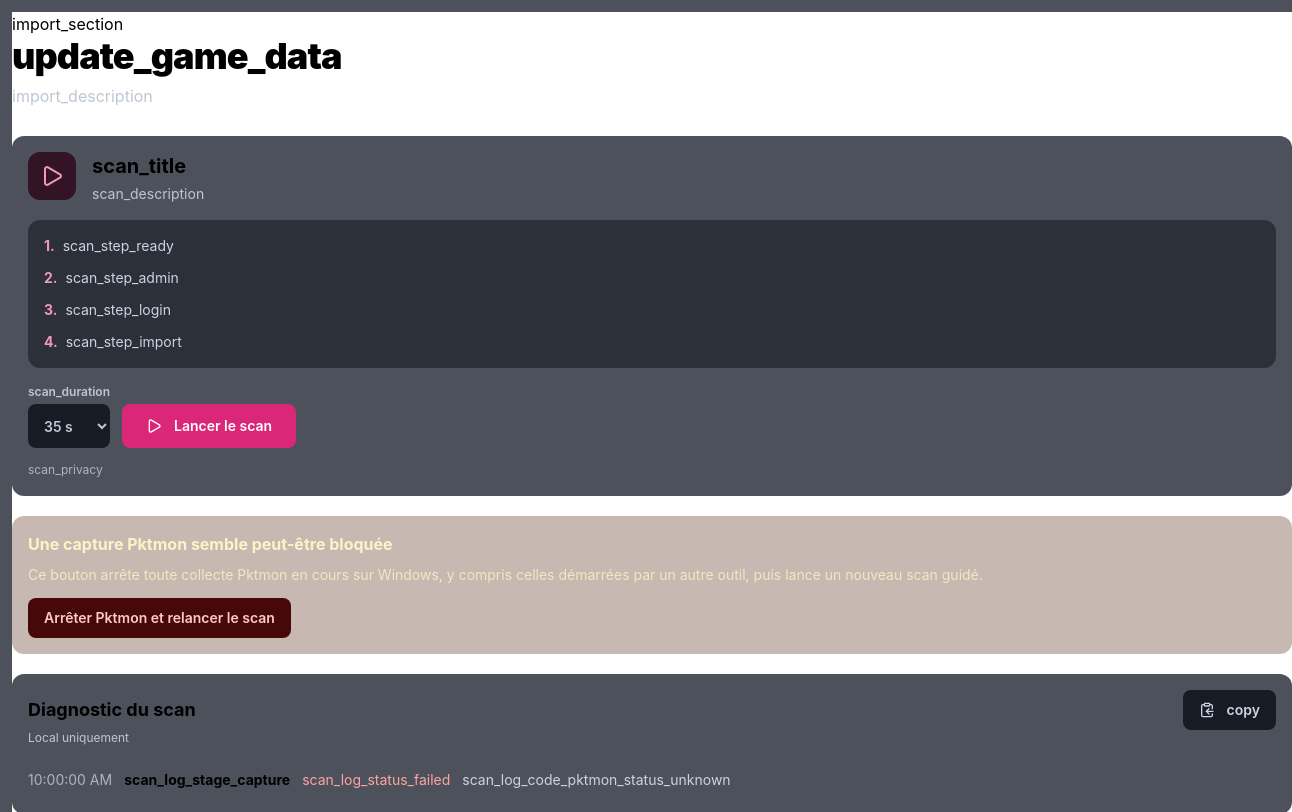
Test: ImportPage › offers explicit Pktmon recovery after an uncertain capture status
Expected: the text "Ce bouton arrête toute collecte Pktmon en cours sur Windows, y compris celles démarrées par un autre outil, puis lance u" is shown, [28,566,983,582]
Click the button "Arrêter Pktmon et relancer le scan": [159, 618] box [28,598,291,638]
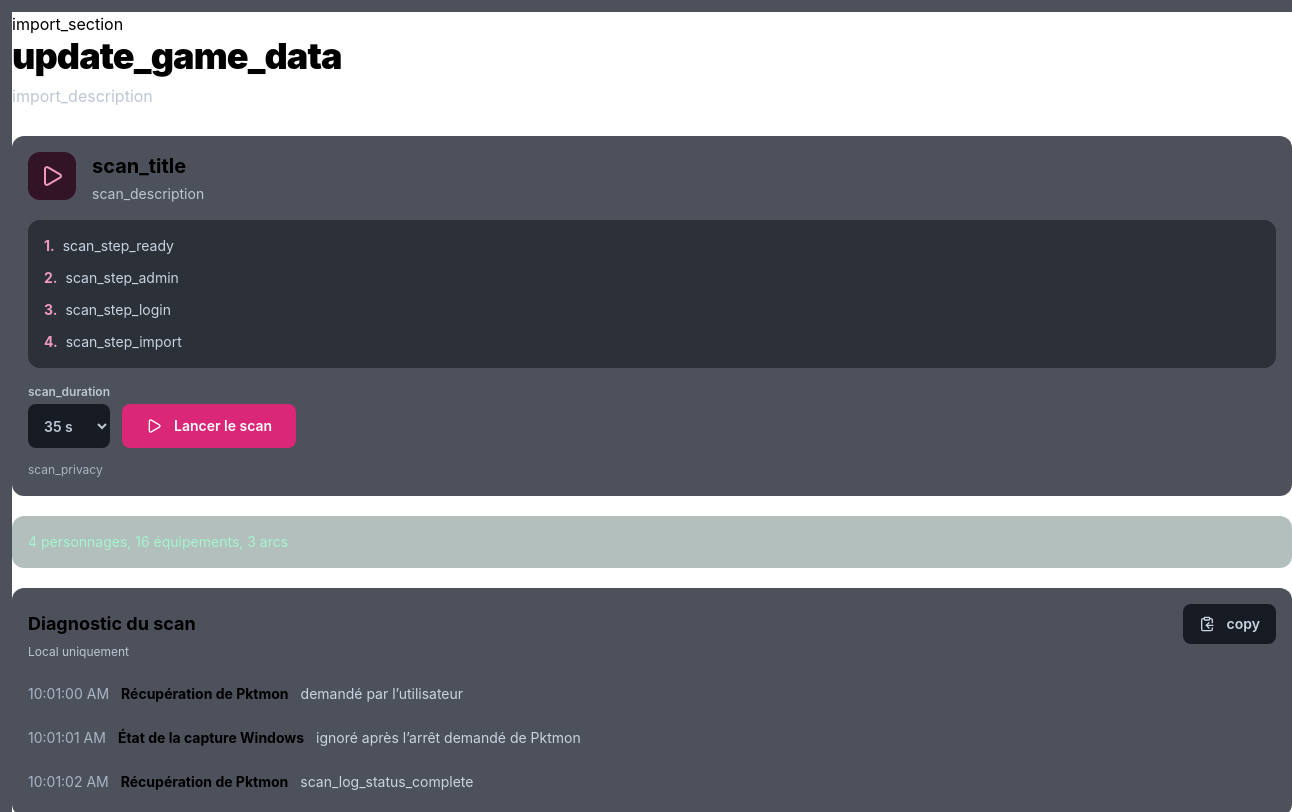
Expected: the message reads "4 personnages, 16 équipements, 3 arcs", [28,532,288,550]
Expected: the heading "Une capture Pktmon semble peut-être bloquée" is gone
